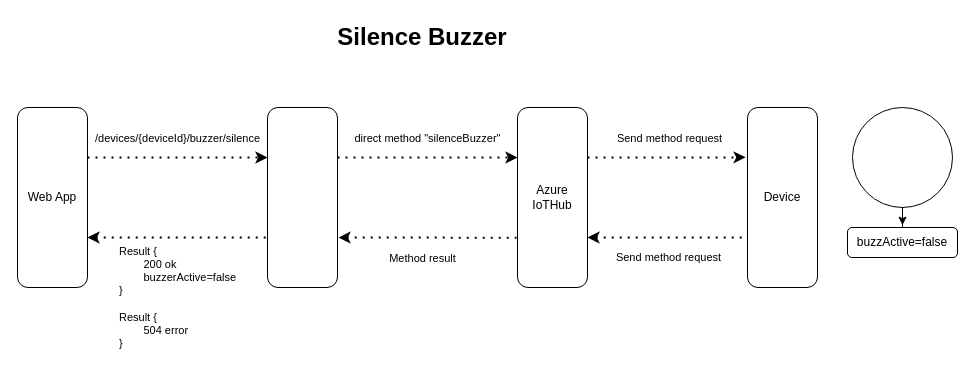
Some shapes in this 975 by 368 pixel diagram are drawn without their labels. Each missing label, with the box of its shape:
execute "silenceBuzzer": (852, 106, 952, 208)
Server: (266, 106, 338, 288)
